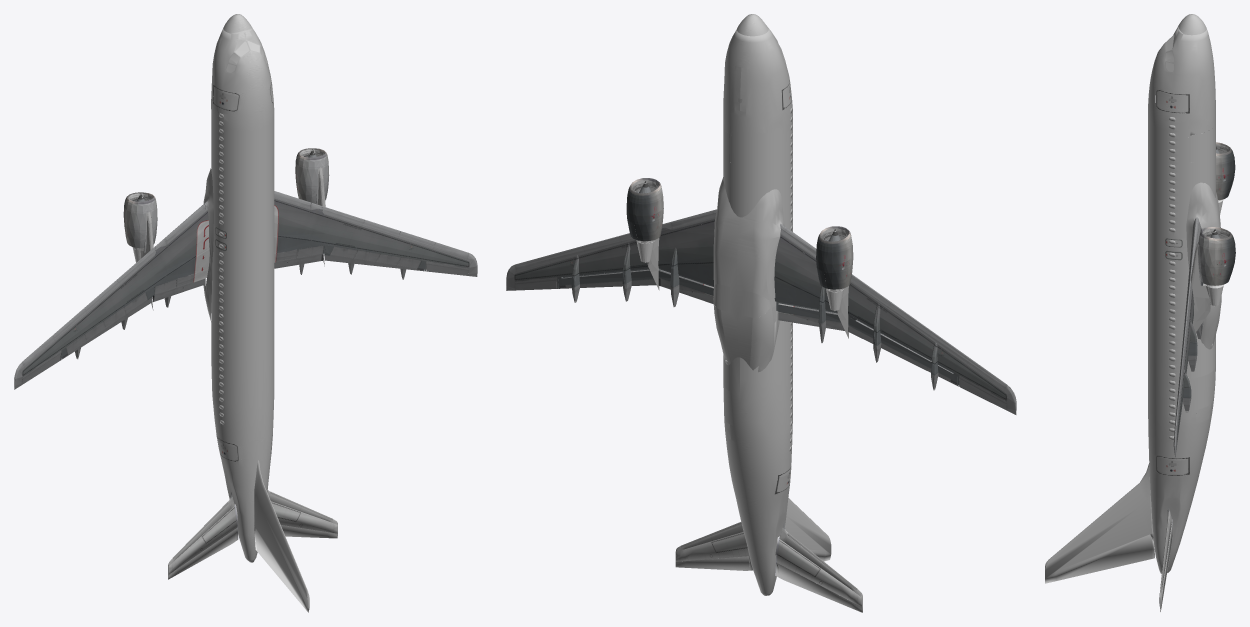
The picture shows the model from 3 angles, left to right: view 1: azimuth 30°, elevation 25°; view 2: azimuth 150°, elevation 25°; view 3: azimuth 270°, elevation 25°; orthographic projection. The views are drawn at different scales.
Visible parts, largest first — view 1: Fuselage, Wings, Hstabs, Vstab, Belly, Windows, Rudder, ElevatorL; view 2: Fuselage, Wings, Belly, Hstabs, Vstab, FlapL2, FlapR2, FlapL1, ElevatorL, FlapR1, ElevatorR, Nacelle_001 (+1 smaller); view 3: Fuselage, Vstab, Belly, Rudder, Windows, Wings, Pylon_001, Nacelle_001, Cargo1, Cargo2, EngineR, DoorR1 (+6 smaller).
Part boxes in pixels (bbox=[...]): Fuselage: bbox=[211, 28, 274, 562]; Wings: bbox=[22, 197, 469, 379]; Hstabs: bbox=[168, 489, 337, 574]; Vstab: bbox=[254, 460, 309, 612]; Belly: bbox=[203, 168, 213, 321]; Windows: bbox=[219, 113, 224, 424]; Rudder: bbox=[254, 528, 302, 605]; ElevatorL: bbox=[168, 527, 238, 579]; Fuselage: bbox=[723, 27, 792, 595]; Wings: bbox=[514, 209, 1006, 403]; Belly: bbox=[713, 177, 784, 372]; Hstabs: bbox=[675, 522, 862, 607]; Vstab: bbox=[785, 498, 831, 561]; FlapL2: bbox=[848, 317, 957, 385]; FlapR2: bbox=[558, 269, 656, 288]; FlapL1: bbox=[778, 303, 844, 330]; ElevatorL: bbox=[775, 562, 862, 612]; FlapR1: bbox=[658, 269, 713, 303]; ElevatorR: bbox=[675, 556, 752, 570]; Nacelle_001: bbox=[626, 197, 663, 224]; Fuselage: bbox=[1148, 26, 1215, 573]; Vstab: bbox=[1045, 463, 1153, 583]; Belly: bbox=[1186, 182, 1221, 349]; Rudder: bbox=[1056, 534, 1154, 580]; Windows: bbox=[1169, 117, 1175, 440]; Wings: bbox=[1174, 217, 1203, 443]; Pylon_001: bbox=[1190, 242, 1210, 332]; Nacelle_001: bbox=[1198, 243, 1235, 269]; Cargo1: bbox=[1188, 127, 1213, 162]; Cargo2: bbox=[1188, 343, 1213, 378]; EngineR: bbox=[1198, 263, 1234, 285]; DoorR1: bbox=[1155, 91, 1188, 110].
Bounding box in the file's own units: 33.91 × 38.27 × 11.63.
107 materials, 70 textured.
